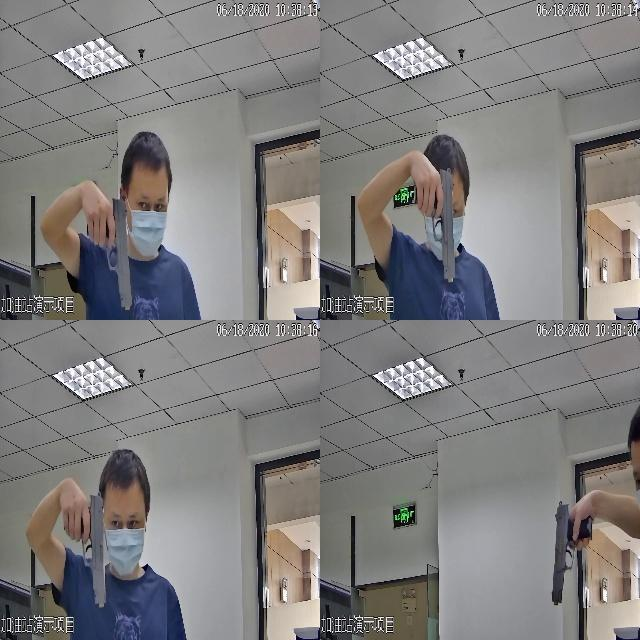gun-knife-thesis - v11 Yolov5 augmented: (81, 189, 138, 308), (409, 161, 458, 286), (60, 486, 110, 608), (544, 495, 594, 606)
